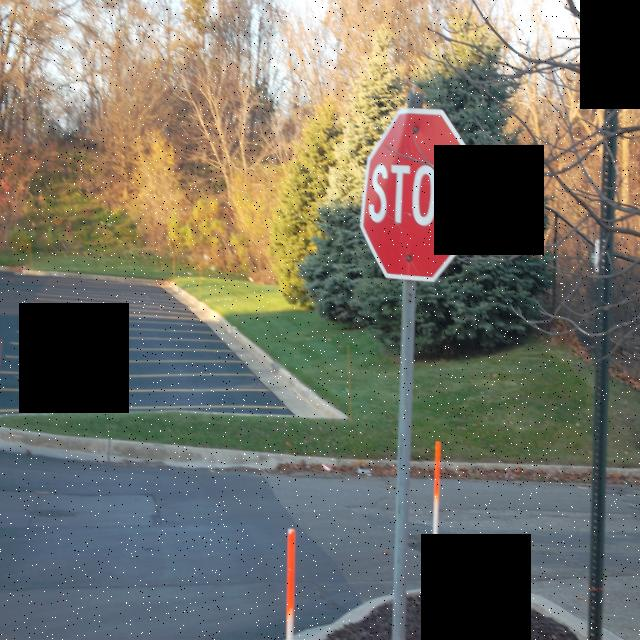stop: (359, 104, 477, 288)
